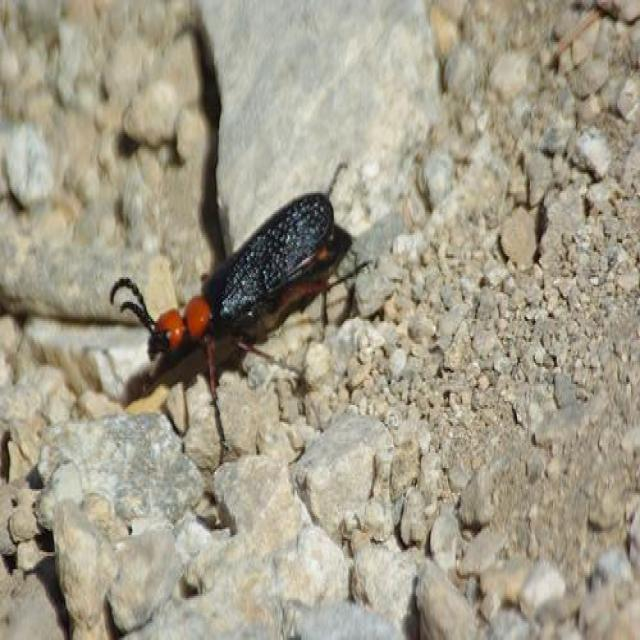BlisterBeetle-Adult-: (97, 152, 360, 426)
